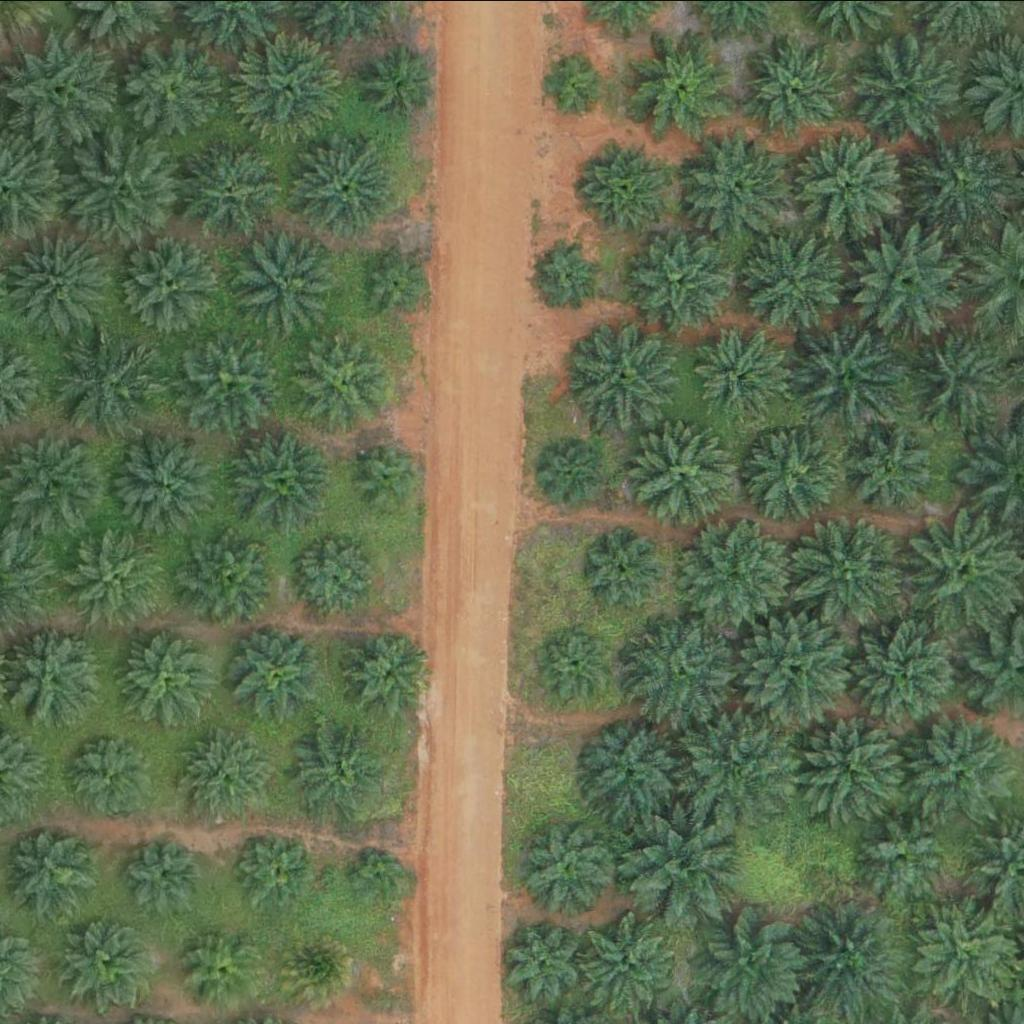Kelapa_Sawit: (621, 804, 747, 929), (680, 701, 806, 826), (845, 607, 971, 732), (787, 506, 913, 631), (778, 315, 904, 440), (897, 316, 1023, 441), (847, 215, 973, 340), (790, 119, 915, 244), (4, 30, 118, 143), (798, 707, 912, 820), (903, 709, 1016, 822), (680, 515, 793, 628), (736, 613, 850, 725), (238, 29, 351, 141), (70, 134, 183, 246), (793, 901, 906, 1013), (621, 618, 734, 730), (186, 138, 287, 238), (293, 134, 394, 234), (9, 232, 110, 332), (122, 231, 223, 331), (231, 231, 332, 331), (54, 332, 155, 432), (180, 330, 281, 430), (292, 330, 393, 430), (4, 424, 105, 524), (112, 430, 213, 530), (234, 429, 335, 529), (61, 523, 162, 623), (178, 524, 279, 624), (3, 625, 104, 725), (119, 626, 220, 726), (630, 423, 731, 523), (745, 424, 846, 524), (571, 321, 672, 421), (692, 327, 793, 427), (628, 230, 729, 330), (740, 230, 841, 330), (685, 135, 786, 235), (912, 127, 1013, 227), (632, 33, 733, 133), (747, 38, 848, 138), (861, 37, 962, 137), (126, 37, 226, 137), (336, 623, 436, 723), (286, 717, 386, 817), (578, 912, 678, 1012), (584, 722, 684, 822), (841, 417, 941, 517), (292, 530, 380, 618), (63, 916, 151, 1004), (859, 810, 947, 898), (232, 626, 320, 713), (63, 732, 151, 819), (175, 730, 263, 817), (12, 827, 100, 914), (499, 919, 587, 1006), (525, 825, 613, 912), (581, 137, 669, 224), (188, 929, 264, 1004), (127, 839, 203, 914), (542, 626, 618, 701), (351, 437, 427, 512), (236, 832, 312, 907), (277, 928, 353, 1003), (586, 529, 661, 604), (365, 45, 440, 120), (359, 241, 434, 316), (540, 440, 603, 503), (349, 843, 412, 905), (538, 241, 601, 303), (539, 55, 602, 117)
